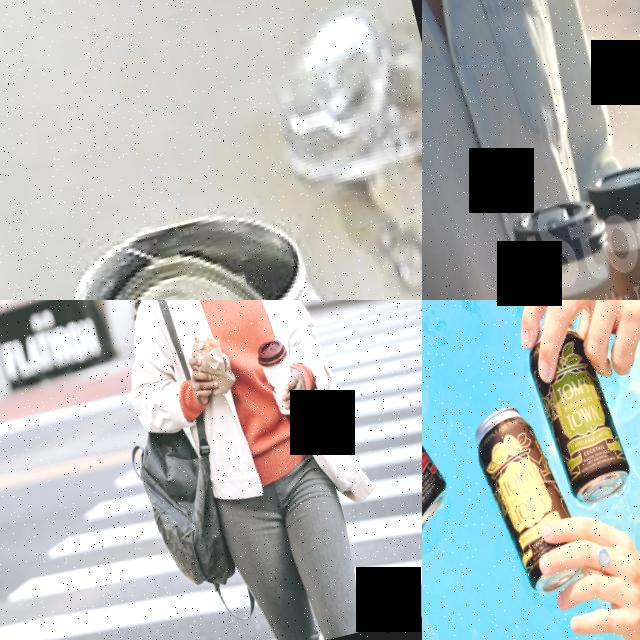can: (35, 184, 397, 300), (467, 396, 588, 604), (524, 320, 635, 510), (422, 342, 457, 556)
cup: (501, 192, 640, 300), (579, 154, 640, 300), (253, 334, 304, 419)
